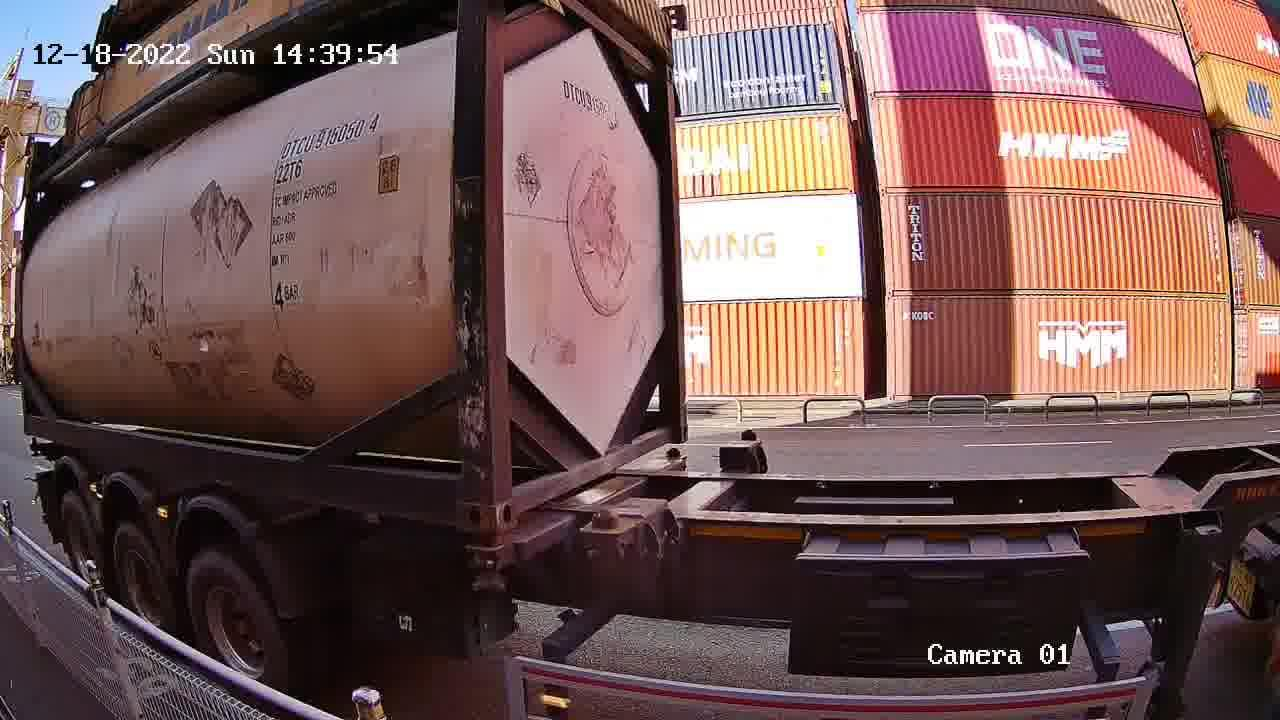Chassis: (496, 454, 686, 560), (593, 464, 767, 569)
Cone: (717, 426, 769, 473), (586, 509, 627, 568), (468, 533, 499, 572), (663, 443, 688, 467)
Hole_L: (495, 449, 544, 535)
Hole_R: (431, 457, 497, 534), (651, 395, 690, 450)
Tire: (187, 558, 286, 686), (114, 530, 173, 630), (57, 499, 100, 563)
